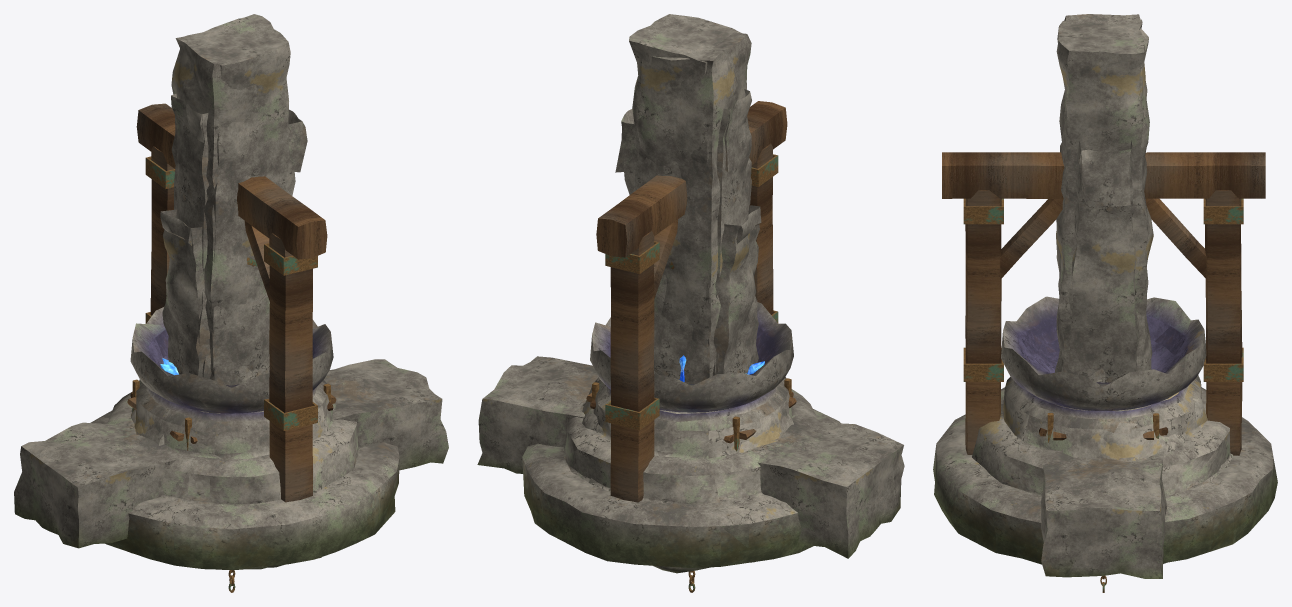
File: landmarks_kit.glb
3 renders of one model, left to right at view 1: azimuth 30°, elevation 25°; view 2: azimuth 150°, elevation 25°; view 3: azimuth 270°, elevation 25°, orthographic.
Visible parts, largest first — view 1: Altar, Lintel, MineHead, Post_A, Post_B, Menhir_A, Menhir_D, MineHead_Iron, Menhir_C; view 2: Altar, Lintel, MineHead, Post_B, Post_A, Menhir_A, Menhir_D, MineHead_Iron, Menhir_C; view 3: Altar, MineHead, Post_A, Lintel, Menhir_C, Post_B, MineHead_Iron, GeodeBoulder_A, GeodeBoulder_B.
Part boxes in pixels (x1,y1,x2,y2): Altar: (90, 307, 399, 569); Lintel: (14, 359, 448, 548); MineHead: (136, 103, 327, 502); Post_A: (185, 14, 290, 381); Post_B: (171, 31, 286, 413); Menhir_A: (160, 209, 210, 376); Menhir_D: (171, 94, 209, 346); MineHead_Iron: (145, 156, 317, 430); Menhir_C: (202, 109, 307, 378); Altar: (522, 302, 840, 567); Lintel: (477, 356, 904, 558); MineHead: (596, 101, 787, 502); Post_B: (636, 32, 758, 384); Post_A: (629, 14, 751, 382); Menhir_A: (712, 205, 761, 376); Menhir_D: (716, 89, 757, 358); MineHead_Iron: (605, 154, 778, 430); Menhir_C: (615, 109, 715, 375); Altar: (933, 296, 1277, 564); MineHead: (942, 152, 1265, 455); Post_A: (1055, 19, 1152, 372); Lintel: (1040, 449, 1166, 578); Menhir_C: (1067, 140, 1139, 382); Post_B: (1056, 14, 1153, 372); MineHead_Iron: (963, 198, 1243, 381); GeodeBoulder_A: (1086, 392, 1207, 460); GeodeBoulder_B: (1055, 404, 1166, 563).
Size of the model in its own units: 3.65 by 5.17 by 2.87.
5 materials, 5 textured.
